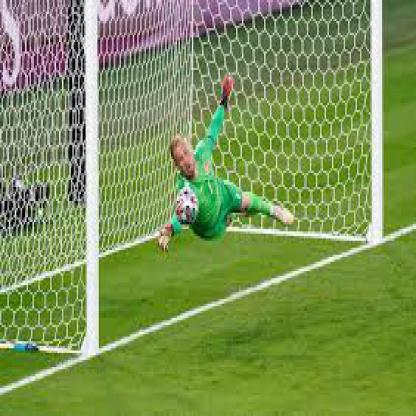goal: (63, 71, 277, 289)
